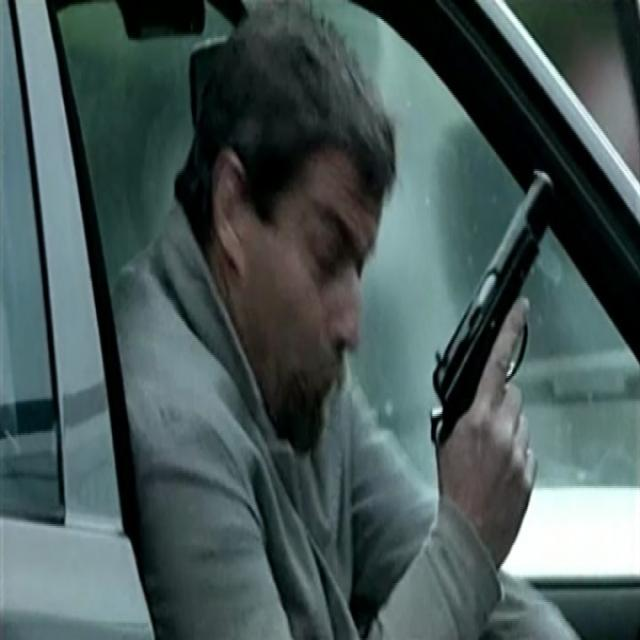weapons: (424, 157, 571, 486)
